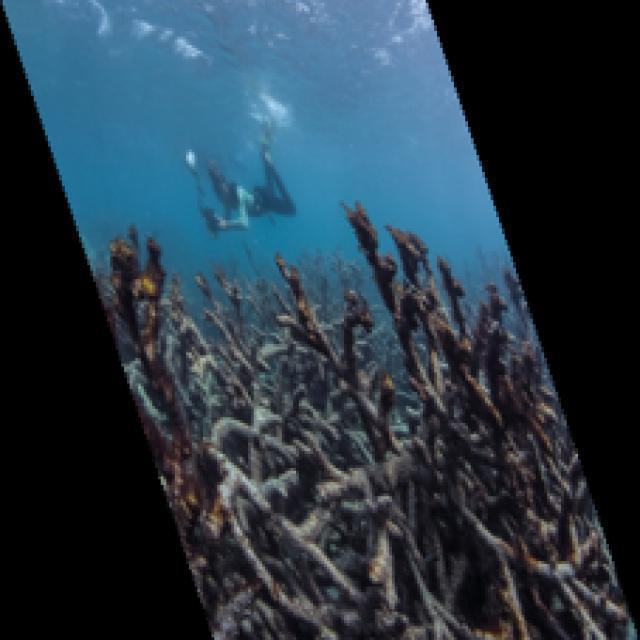Dead Coral: (303, 201, 570, 561), (94, 186, 241, 573)
